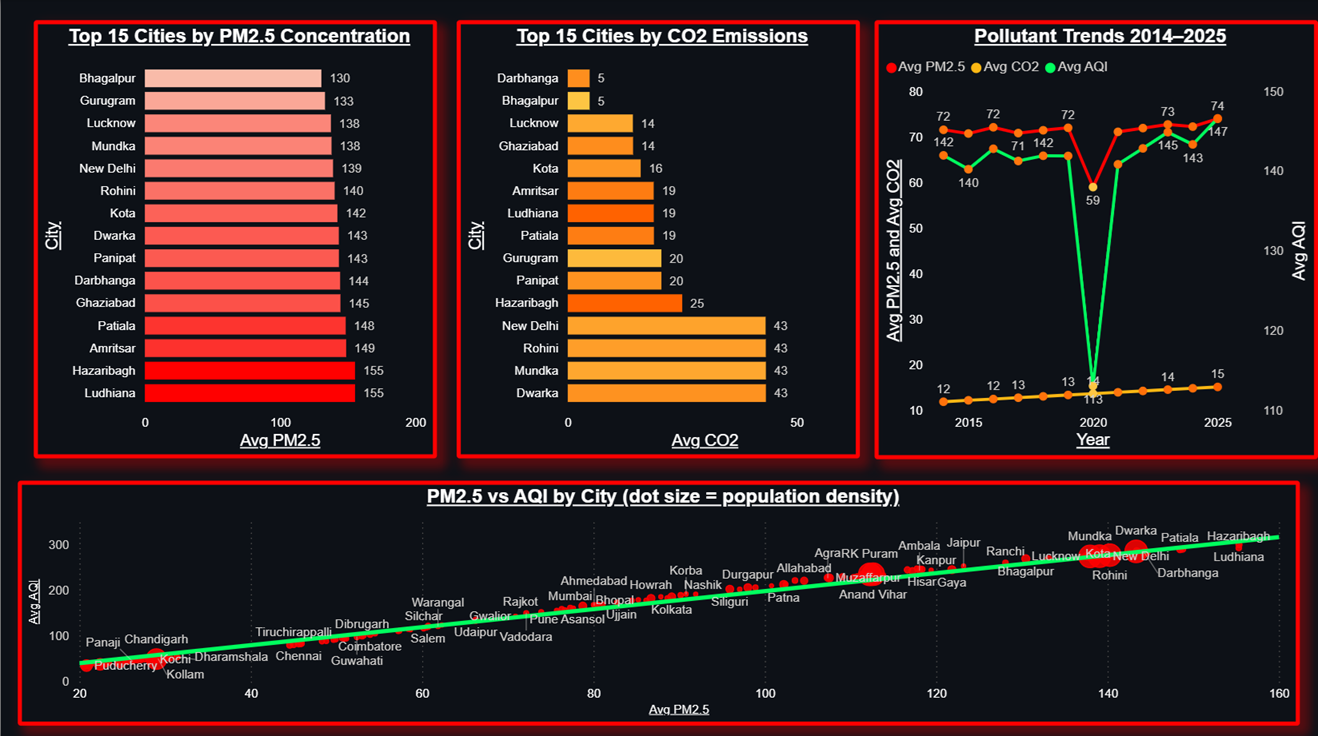

The dashboard page shown, as its layout file describes it:
{"tool":"powerbi","page":{"name":"Pollutant Analysis","canvas":[1280,720],"ordinal":2},"visuals":[{"type":"clusteredBarChart","title":"Top 15 Cities by PM2.5 Concentration","fields":{"Category":["Dim_City.City"],"Y":["Fact_AQI.Avg PM2.5"]},"box":[31.7,20,391.7,426.7],"z":0},{"type":"clusteredBarChart","title":"Top 15 Cities by CO2 Emissions","fields":{"Category":["Dim_City.City"],"Y":["Fact_AQI.Avg CO2"]},"box":[443.3,20,391.7,426.7],"z":1000},{"type":"scatterChart","title":"PM2.5 vs AQI by City (dot size = population density)","fields":{"X":["Fact_AQI.Avg PM2.5"],"Y":["Fact_AQI.Avg AQI"],"Size":["Sum(Fact_AQI.Population_Density)"],"Category":["Dim_City.City"]},"box":[16.7,468.3,1246.7,238.3],"z":2000},{"type":"lineChart","title":"Pollutant Trends 2014–2025","fields":{"Category":["Dim_Date.Year"],"Y":["Fact_AQI.Avg PM2.5","Fact_AQI.Avg CO2"],"Y2":["Fact_AQI.Avg AQI"]},"box":[849,20,431,427],"z":3000}]}

Visuals, with their boxes in screenshot pixels (x1, y1, x2, y2), scaled from the page's 1280x720 canvas onto the 1318x736 screenshot:
"Top 15 Cities by PM2.5 Concentration" clusteredBarChart: [left=33, top=20, right=436, bottom=457]
"Top 15 Cities by CO2 Emissions" clusteredBarChart: [left=456, top=20, right=860, bottom=457]
"PM2.5 vs AQI by City (dot size = population density)" scatterChart: [left=17, top=479, right=1301, bottom=722]
"Pollutant Trends 2014–2025" lineChart: [left=874, top=20, right=1317, bottom=457]
